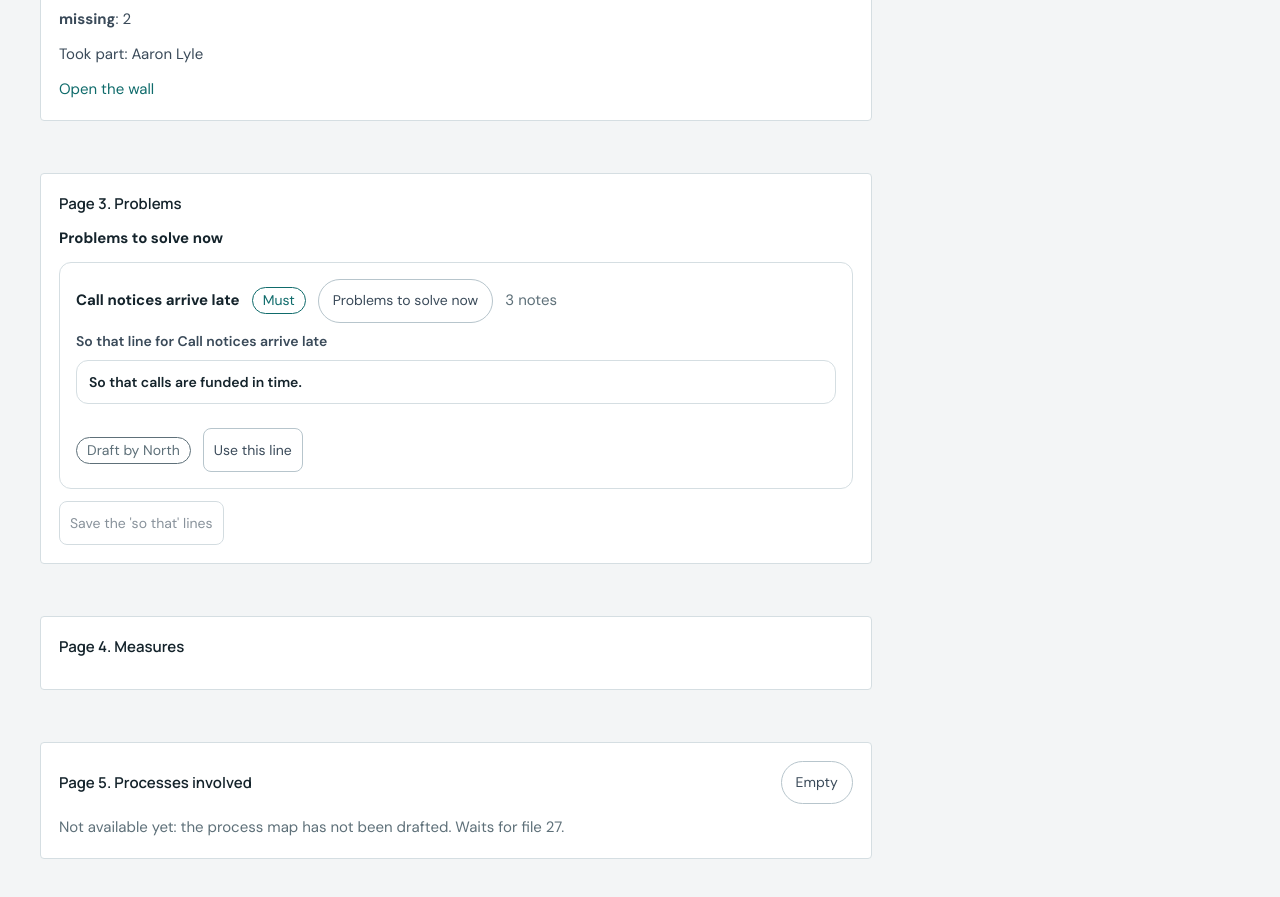
Scenario: charter › using a line that is no longer a draft says there is nothing to confirm
(page scrolled)
Click the button "Use this line": (253, 450) [203,428,303,472]
(page scrolled)
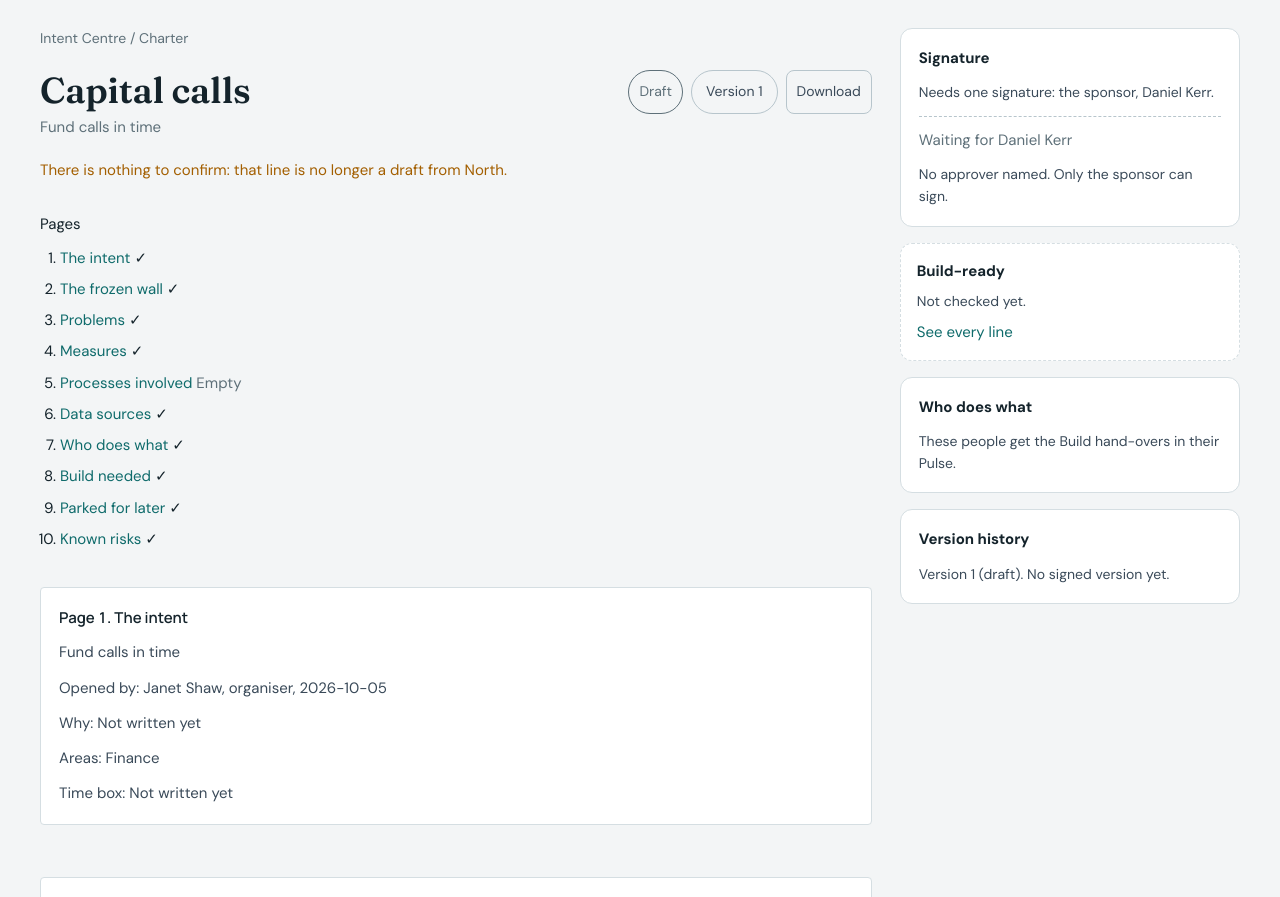
Check: the text "There is nothing to confirm: that line is no longer a draft from North." is shown, box [40,160,507,180]
